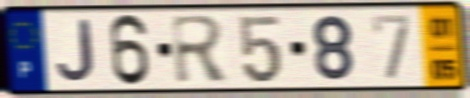5: (236, 13, 285, 85)
6: (107, 12, 152, 89)
7: (368, 11, 413, 83)
8: (311, 13, 357, 84)
J: (55, 18, 98, 84)
R: (168, 13, 233, 87)
